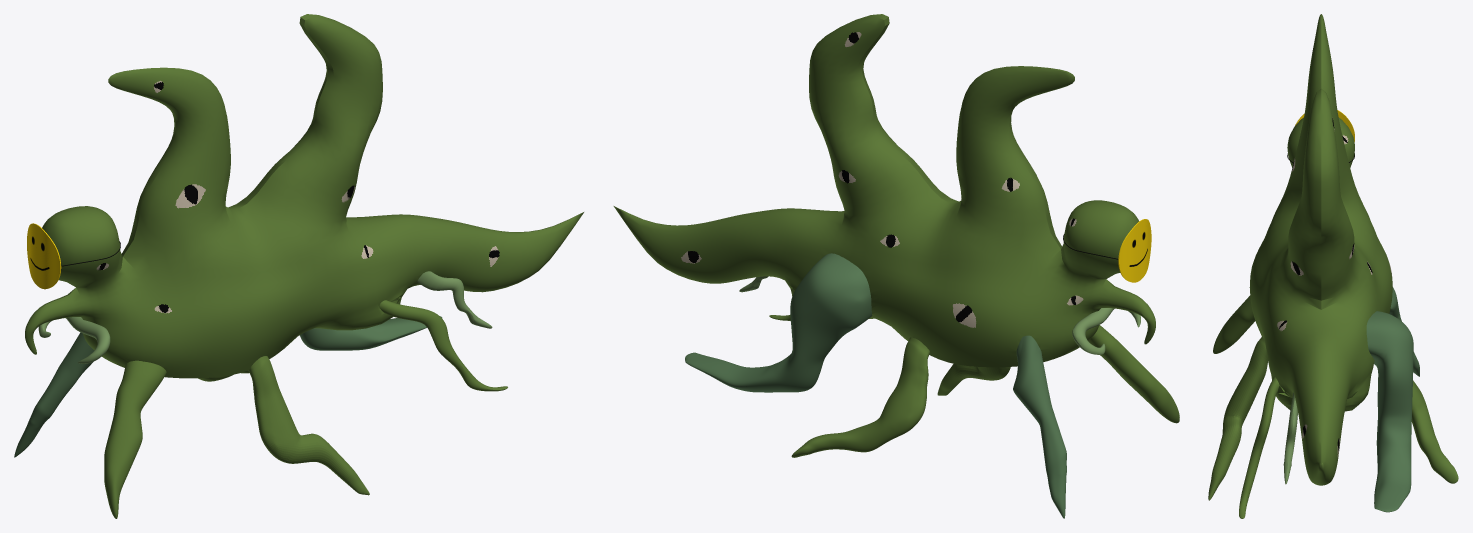
3 renders of one model, left to right at view 1: azimuth 30°, elevation 25°; view 2: azimuth 150°, elevation 25°; view 3: azimuth 270°, elevation 25°, orthographic. The views are drawn at different scales.
Parts seen in each view (by area): view 1: Shoggoth_Inflatable, HappyFaceMask; view 2: Shoggoth_Inflatable, HappyFaceMask; view 3: Shoggoth_Inflatable.
Boxes of the visible parts, x1,y1,x2,y2 form: Shoggoth_Inflatable: (14,14,583,518); HappyFaceMask: (27,223,120,289); Shoggoth_Inflatable: (613,14,1179,518); HappyFaceMask: (1063,219,1151,282); Shoggoth_Inflatable: (1208,14,1458,518).
Size of the model in its own units: 3.43 by 2.57 by 1.42.
Materials: 5 (2 with a texture image).
